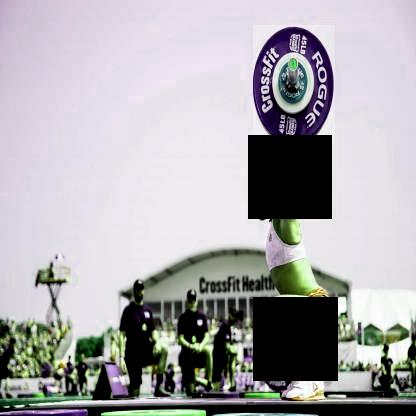barbell: (255, 26, 336, 144)
